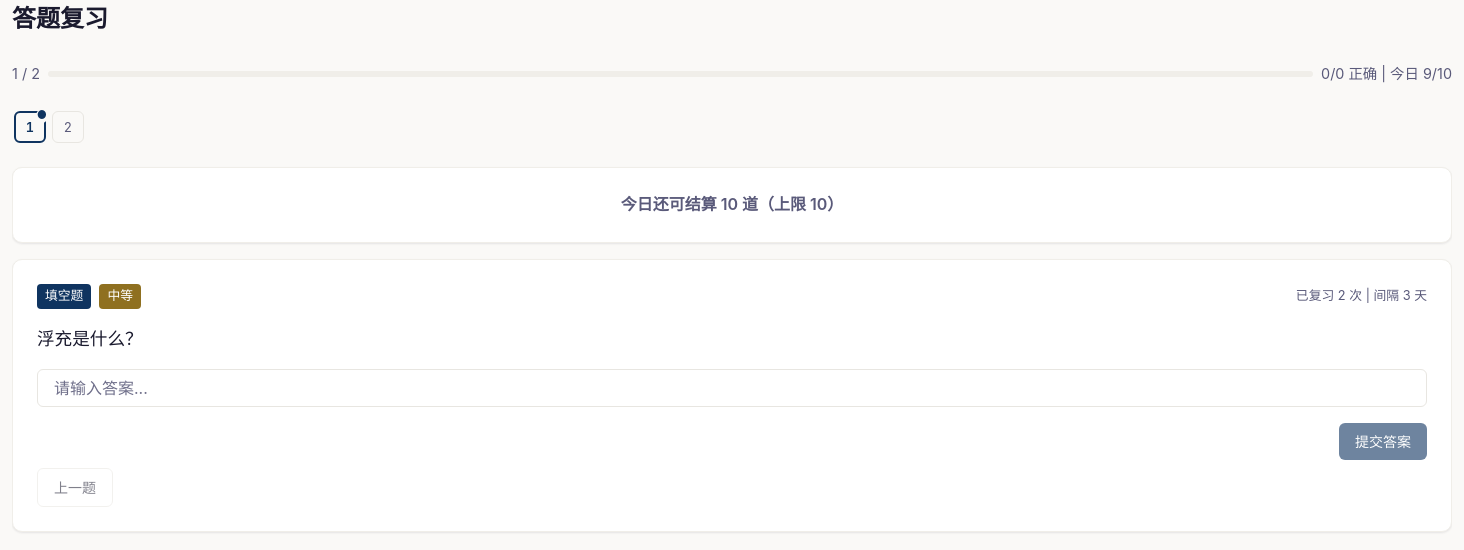
Test: 每日限额的分流依据是 error_code，不是中文文案（阶段 0.11） › ★ error_code=DAILY_REVIEW_LIMIT_REACHED 时进入"复习完成"，且刷新统计
The image size is (1464, 550).
Expected: the text "浮充是什么？" is shown, [37,328,143,348]
Type "恒压运行" into the field with placeholder "请输入答案..." at (732, 388), box [37,369,1427,407]
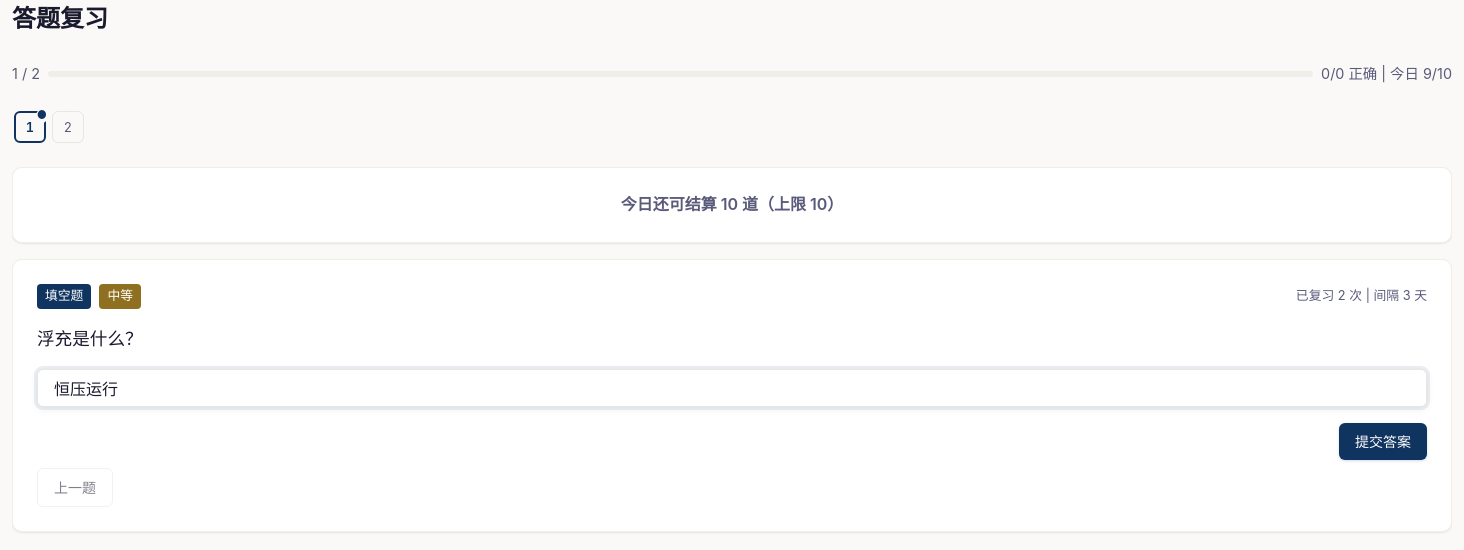
Click the button "提交答案" at (1383, 441), box [1339,423,1427,460]
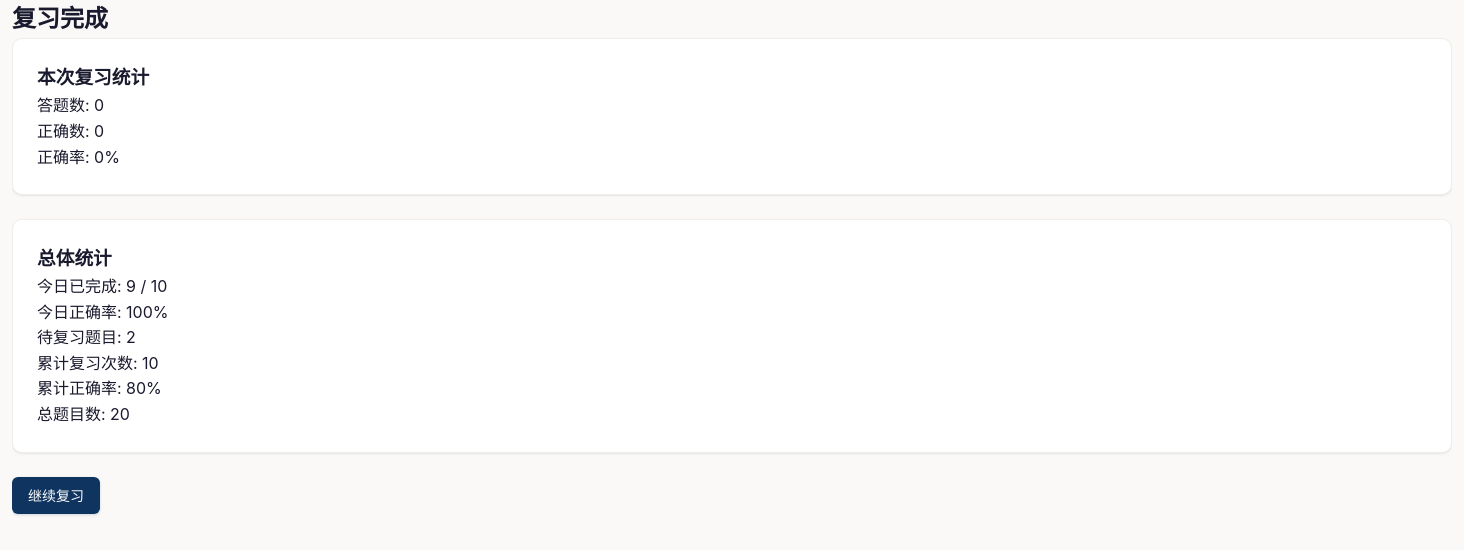
Expected: the heading "复习完成" is shown, [12,4,108,33]
